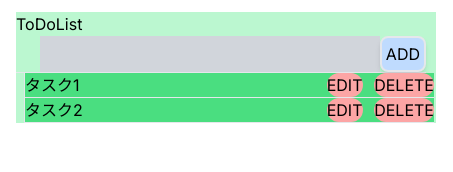
Test: TodoApp › 新規タスクを追加できる
Type "新規タスク" into the field named "ToDo".
click(210, 54); type("新規タスク")  # box x1=40 y1=36 x2=380 y2=72
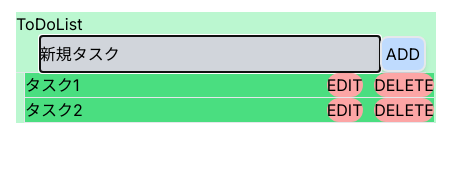
Click the button "ADD".
click(403, 54)  # box x1=380 y1=36 x2=426 y2=72
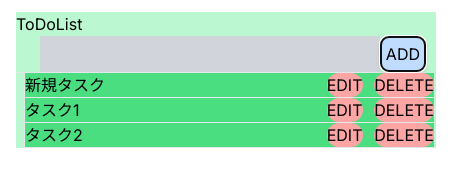
Expected: the text "新規タスク" is shown, x1=25 y1=75 x2=105 y2=95
